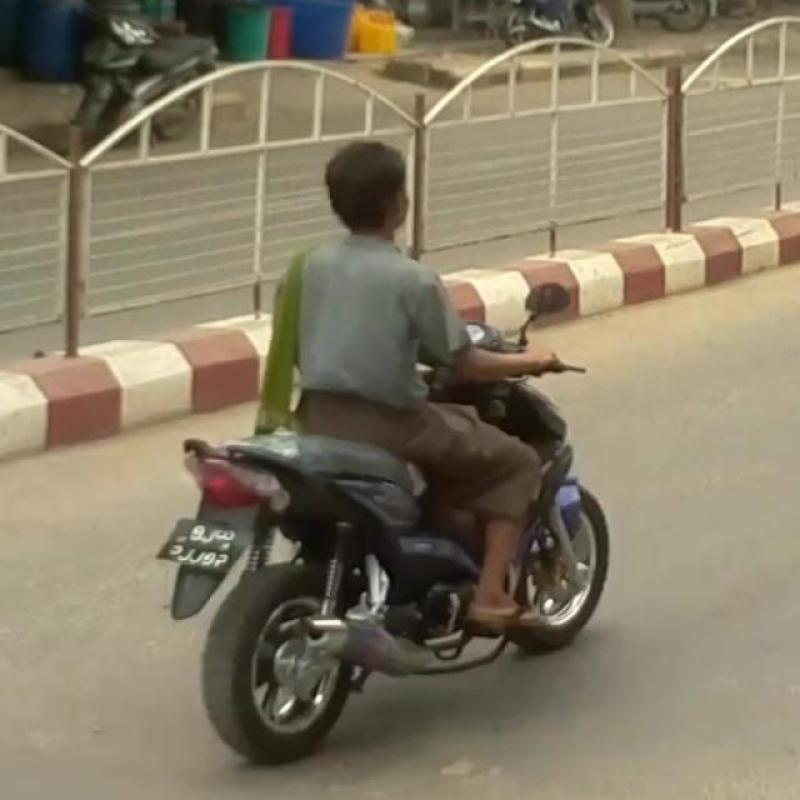nohelmet: (316, 132, 444, 277)
